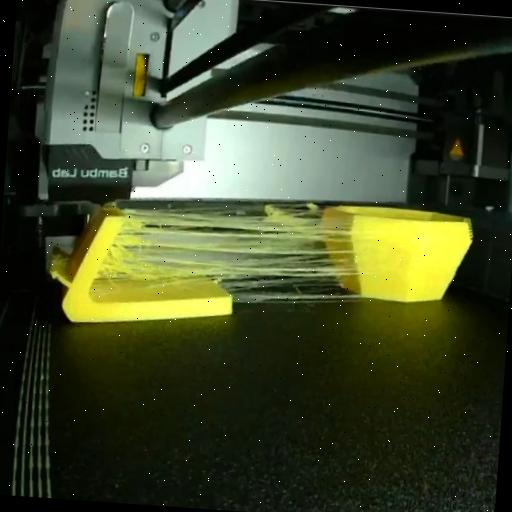stringing: (112, 202, 356, 290)
